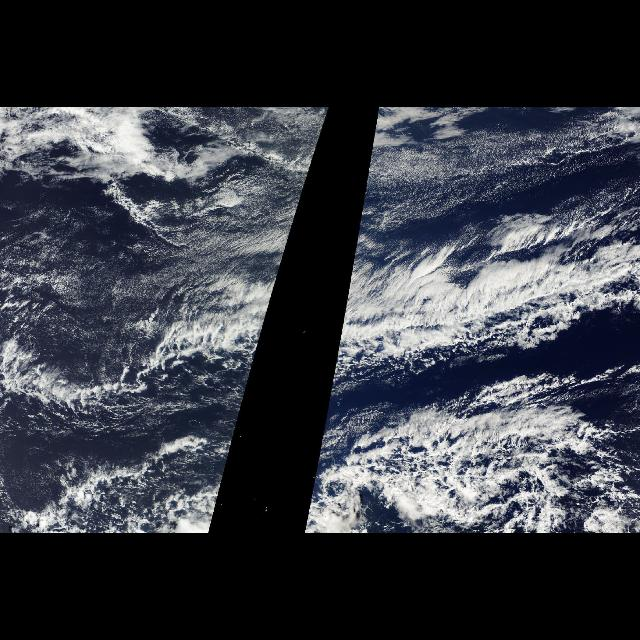Fish: (304, 206, 636, 534), (8, 206, 302, 534)
Sugar: (353, 124, 622, 242), (96, 124, 324, 242)
